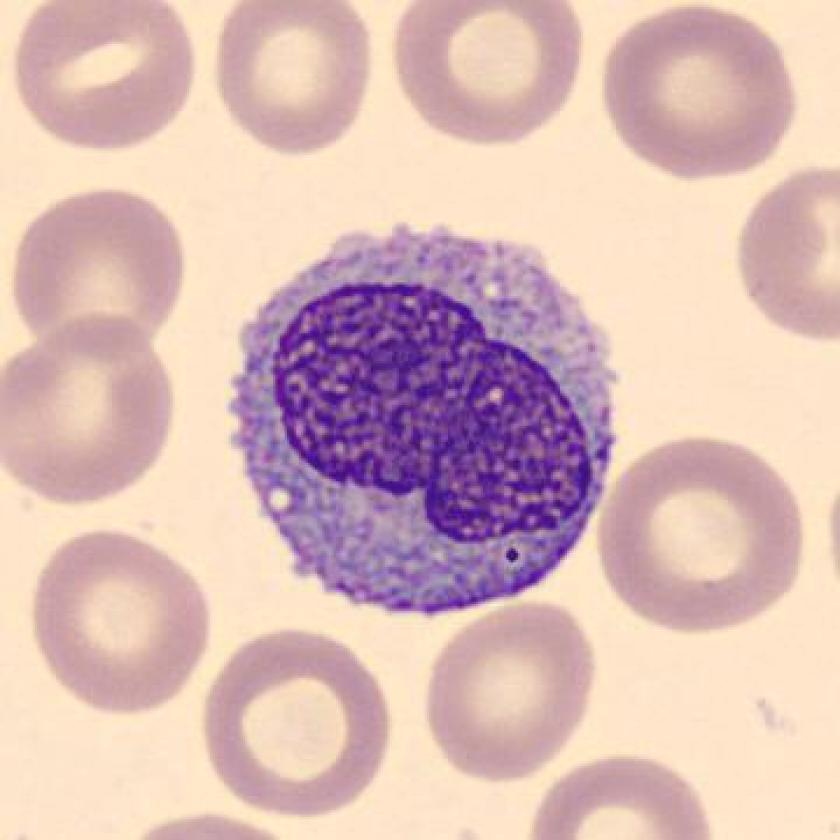monocyte: (216, 200, 645, 633)
